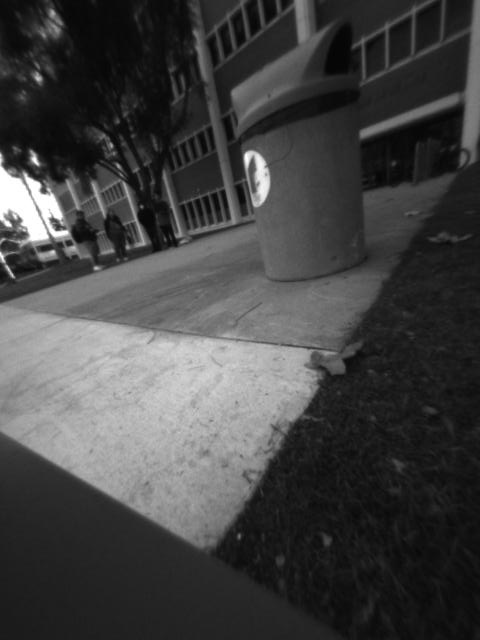trashcan: (231, 19, 376, 280)
